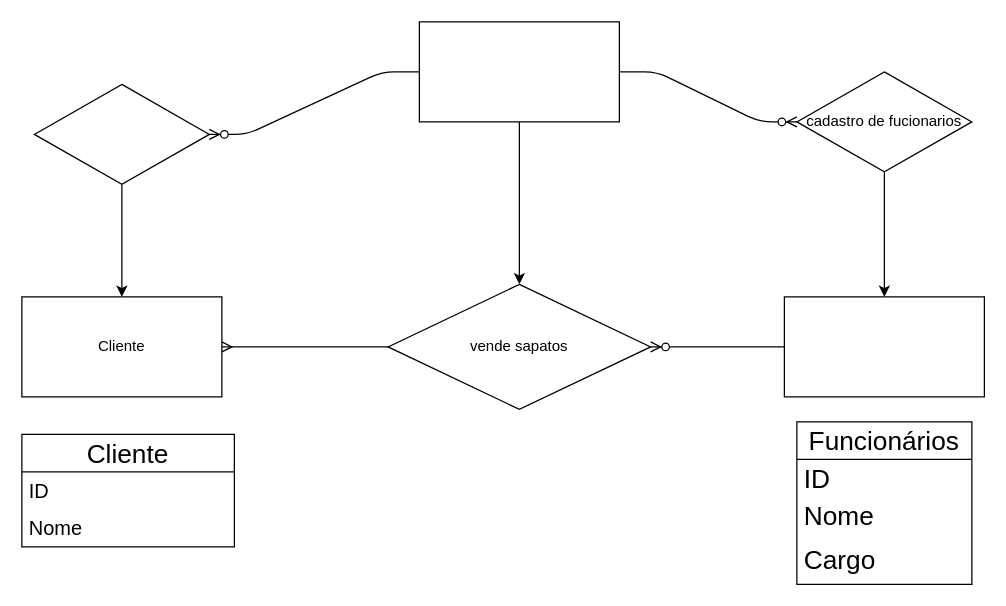
The diagram is 1006 pixels wide and 606 high, and some of its shapes have lost their labels. The centre of each missing label's shape, as x and y in pixels:
cadastro de cliente: the point at 121,133
Fucionarios: the point at 883,346
Loja de Calçados: the point at 518,71
